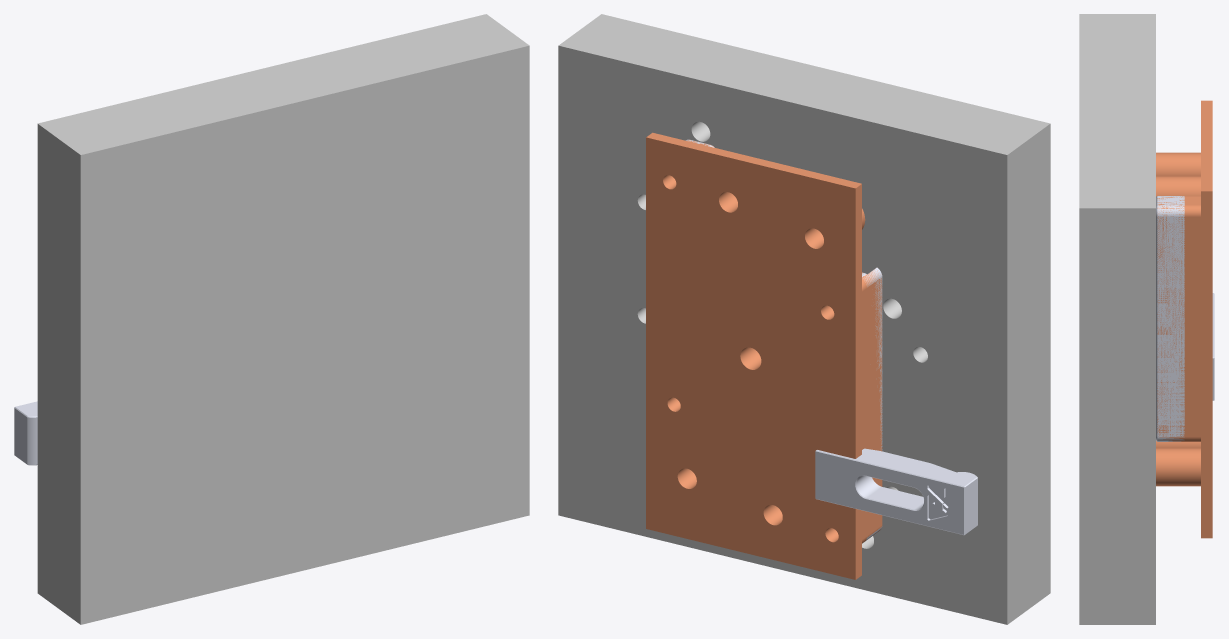
Rendered from myGltf.gltf.
3 renders of one model, left to right at view 1: azimuth 30°, elevation 25°; view 2: azimuth 150°, elevation 25°; view 3: azimuth 270°, elevation 25°, orthographic. The views are drawn at different scales.
Parts seen in each view (by area): view 1: mesh160_meshnode_160, mesh158_meshnode_158, mesh157_meshnode_157; view 2: mesh155_meshnode_155, mesh247_meshnode_247, mesh158_meshnode_158, mesh157_meshnode_157, mesh31_meshnode_31, mesh205_meshnode_205, mesh248_meshnode_248, mesh62_meshnode_62, mesh249_meshnode_249, mesh36_meshnode_36; view 3: mesh156_meshnode_156, mesh157_meshnode_157, mesh93_meshnode_93, mesh284_meshnode_284, mesh250_meshnode_250, mesh256_meshnode_256, mesh249_meshnode_249, mesh265_meshnode_265, mesh259_meshnode_259, mesh94_meshnode_94, mesh88_meshnode_88, mesh286_meshnode_286 (+3 smaller).
Part boxes in pixels (x1,y1,x2,y2): mesh160_meshnode_160: [80, 45, 529, 624]; mesh158_meshnode_158: [37, 124, 80, 624]; mesh157_meshnode_157: [38, 14, 529, 154]; mesh155_meshnode_155: [558, 45, 1007, 624]; mesh247_meshnode_247: [646, 137, 855, 579]; mesh158_meshnode_158: [1007, 124, 1050, 624]; mesh157_meshnode_157: [559, 14, 1050, 154]; mesh31_meshnode_31: [815, 451, 963, 534]; mesh205_meshnode_205: [862, 278, 882, 539]; mesh248_meshnode_248: [855, 184, 861, 579]; mesh62_meshnode_62: [816, 448, 976, 486]; mesh249_meshnode_249: [646, 132, 861, 188]; mesh36_meshnode_36: [867, 487, 923, 509]; mesh156_meshnode_156: [1079, 208, 1155, 624]; mesh157_meshnode_157: [1079, 14, 1155, 208]; mesh93_meshnode_93: [1157, 217, 1184, 436]; mesh284_meshnode_284: [1157, 217, 1200, 436]; mesh250_meshnode_250: [1201, 191, 1212, 538]; mesh256_meshnode_256: [1156, 448, 1200, 486]; mesh249_meshnode_249: [1201, 100, 1212, 191]; mesh265_meshnode_265: [1156, 152, 1200, 175]; mesh259_meshnode_259: [1156, 176, 1200, 196]; mesh94_meshnode_94: [1156, 216, 1157, 436]; mesh88_meshnode_88: [1157, 205, 1184, 216]; mesh286_meshnode_286: [1157, 205, 1200, 216].
Size of the model in its own units: 0.1524 by 0.1524 by 0.0449.
